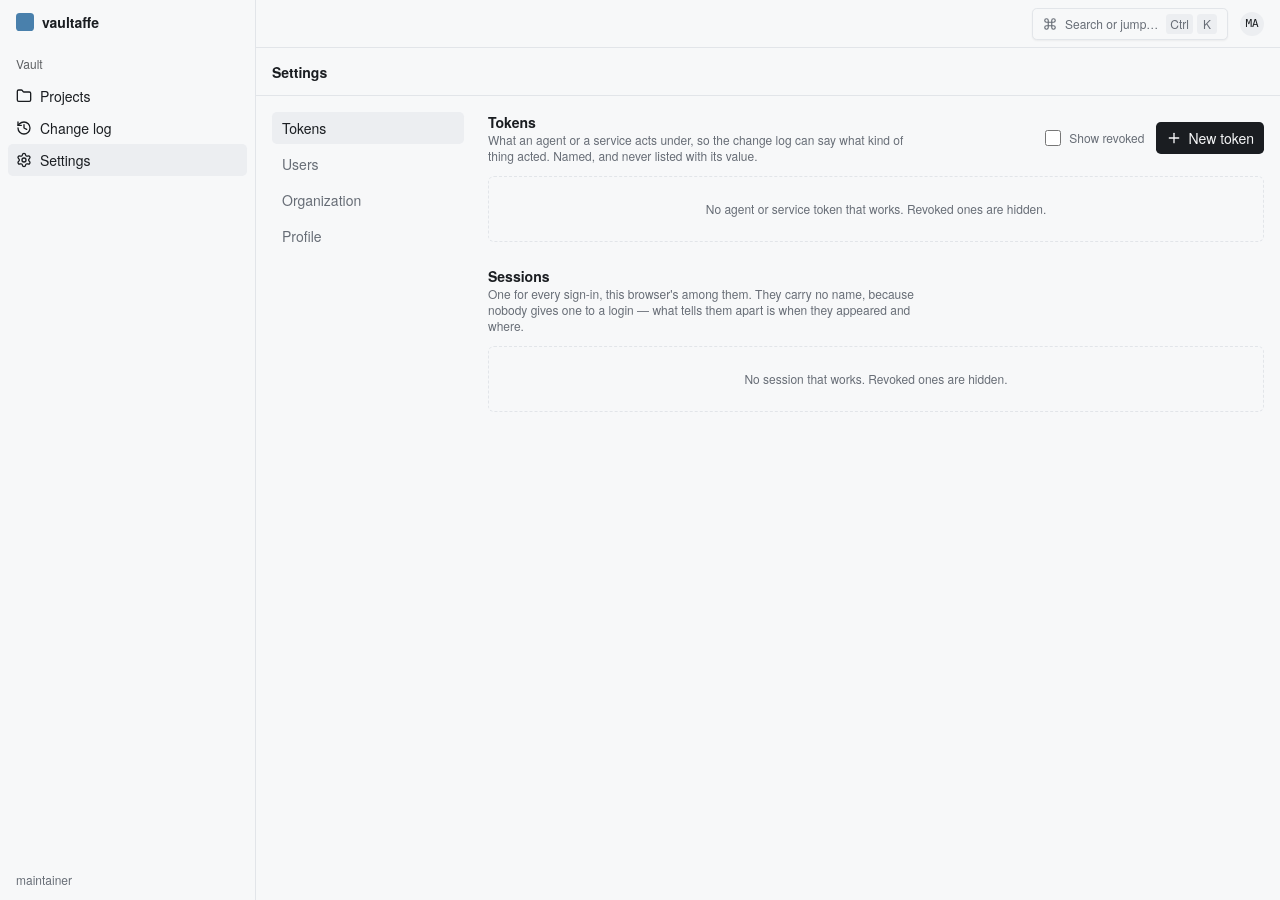
Test case: the tokens › offers keeping an agent out of production, and says what that binds to
Step 1. Click the button "New token" → (1210, 138), box top-left (1156, 122), bottom-right (1264, 154)
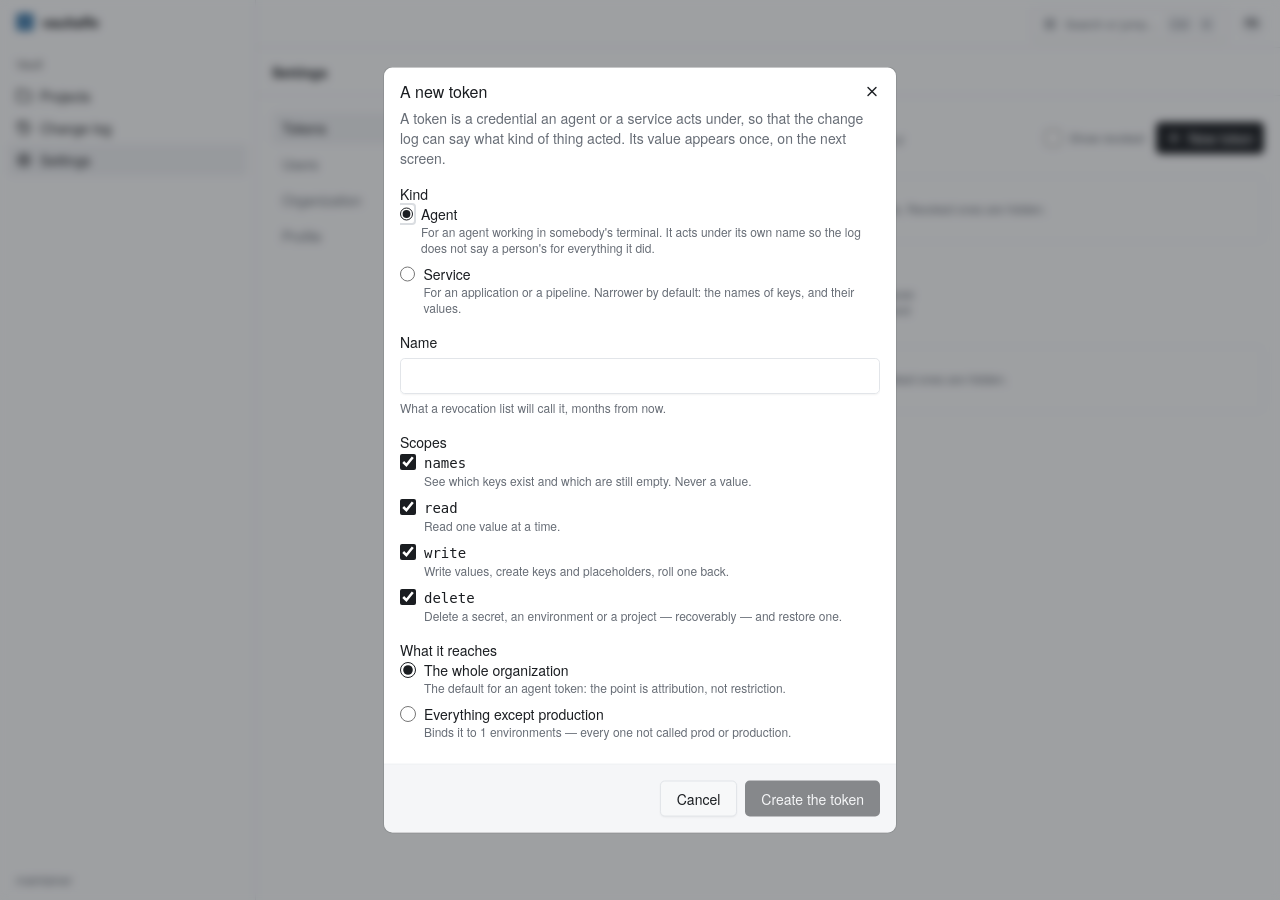
Check: the radio button labelled "Agent" is checked, box top-left (400, 206), bottom-right (413, 222)
Check: the radio button labelled "The whole organization" is checked, box top-left (400, 662), bottom-right (416, 678)
Check: the text "Binds it to 1 environments" is shown, box top-left (424, 722), bottom-right (792, 740)
